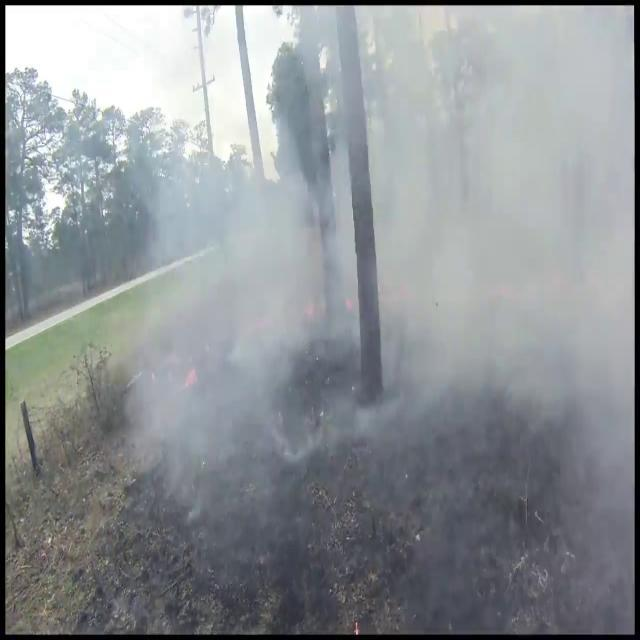Smoke: (101, 7, 631, 570)
